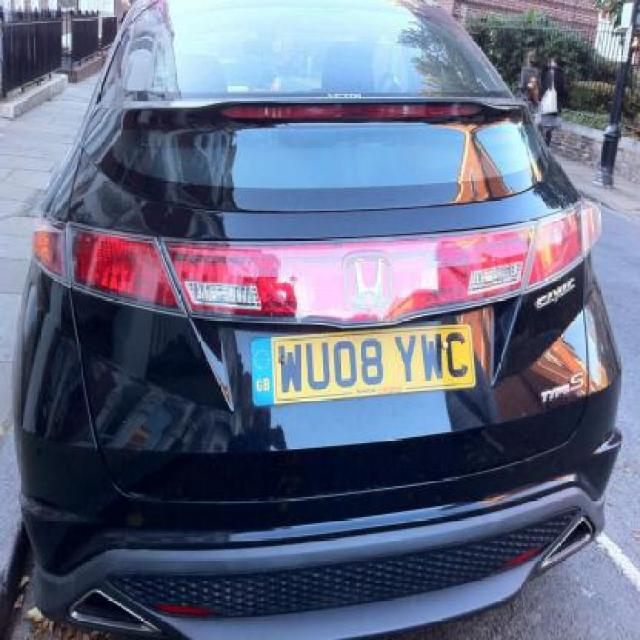License-Plates: (248, 325, 478, 409)
